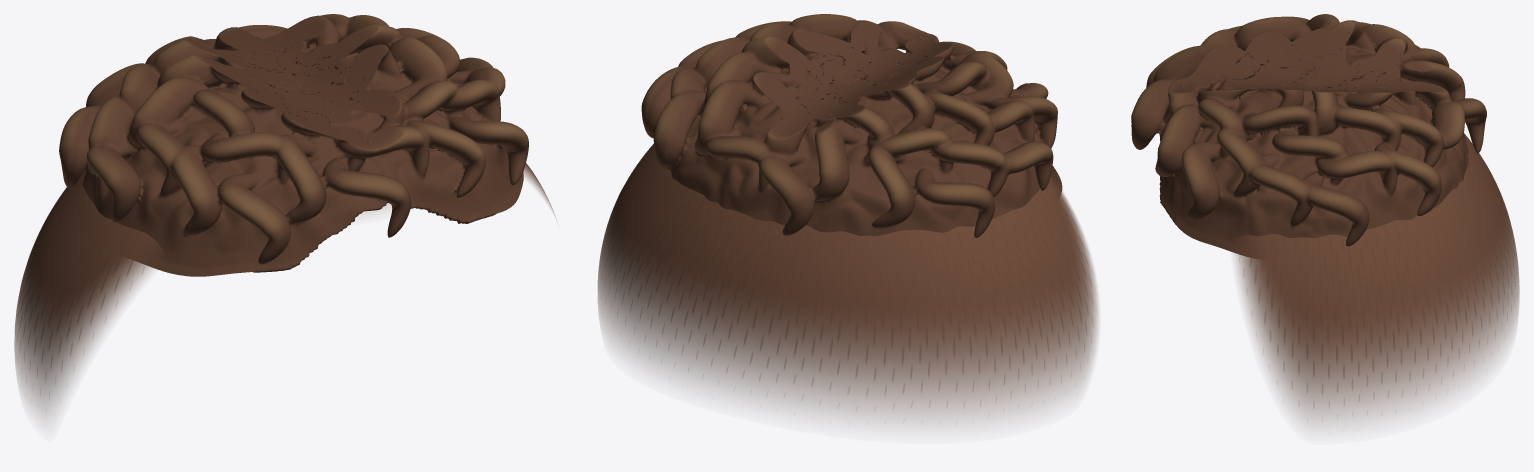
Rendered from Masculine-curly-top-cowboy258-hair-ombre.glb.
3 views of the same model, side by side, from view 1: azimuth 30°, elevation 25°; view 2: azimuth 150°, elevation 25°; view 3: azimuth 270°, elevation 25° (orthographic). The views are drawn at different scales.
Visible parts, largest first — view 1: 226 hair / Hair252 / sculpted curl groups, 226 hair / Hair258 / smooth side fade, 226 hair / Hair258 / directional fade marks; view 2: 226 hair / Hair258 / smooth side fade, 226 hair / Hair252 / sculpted curl groups, 226 hair / Hair258 / directional fade marks; view 3: 226 hair / Hair252 / sculpted curl groups, 226 hair / Hair258 / smooth side fade, 226 hair / Hair258 / directional fade marks.
Part boxes in pixels (x1,y1,x2,y2): 226 hair / Hair252 / sculpted curl groups: (59, 14, 528, 276); 226 hair / Hair258 / smooth side fade: (14, 81, 556, 418); 226 hair / Hair258 / directional fade marks: (16, 168, 159, 375); 226 hair / Hair258 / smooth side fade: (598, 80, 1098, 423); 226 hair / Hair252 / sculpted curl groups: (641, 14, 1062, 237); 226 hair / Hair258 / directional fade marks: (607, 144, 1092, 395); 226 hair / Hair252 / sculpted curl groups: (1131, 14, 1486, 257); 226 hair / Hair258 / smooth side fade: (1233, 81, 1519, 425); 226 hair / Hair258 / directional fade marks: (1238, 140, 1514, 405).
Size of the model in its own units: 0.9705 by 0.6416 by 0.7492.
